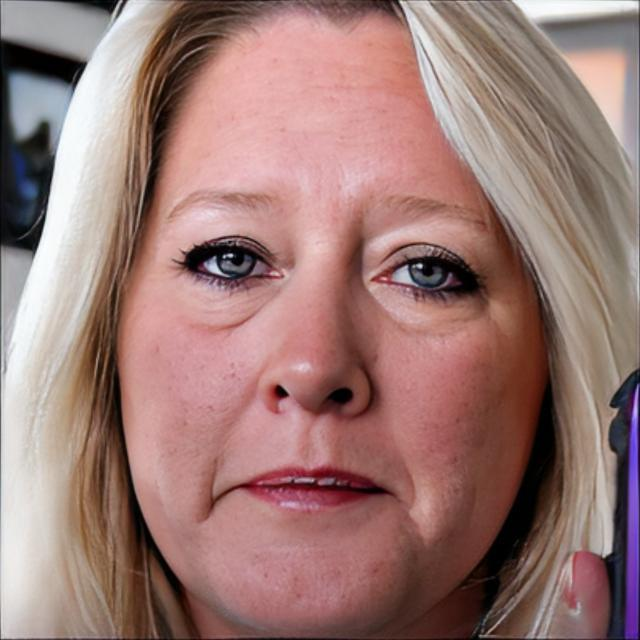sad: (114, 8, 549, 638)
